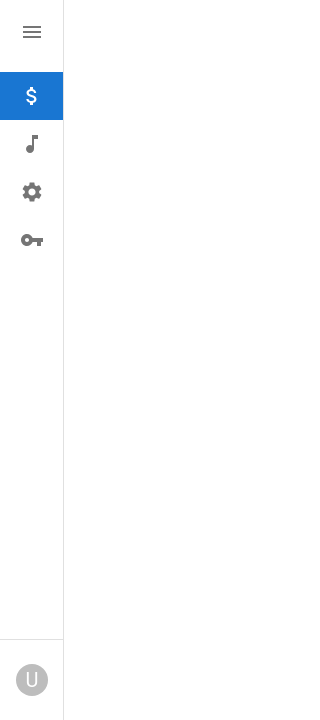
Test: SideMenu › deve exibir 'Usuário' quando não houver email nem displayName
Click the button named "toggle menu".
click(32, 32)  # box [12,12,52,52]
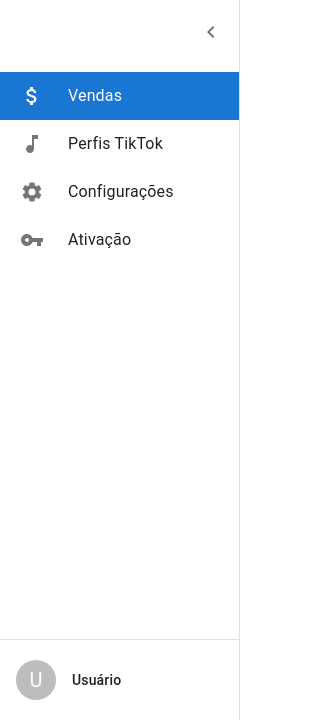
Expected: the text "Usuário" is shown, [72,672,121,688]
